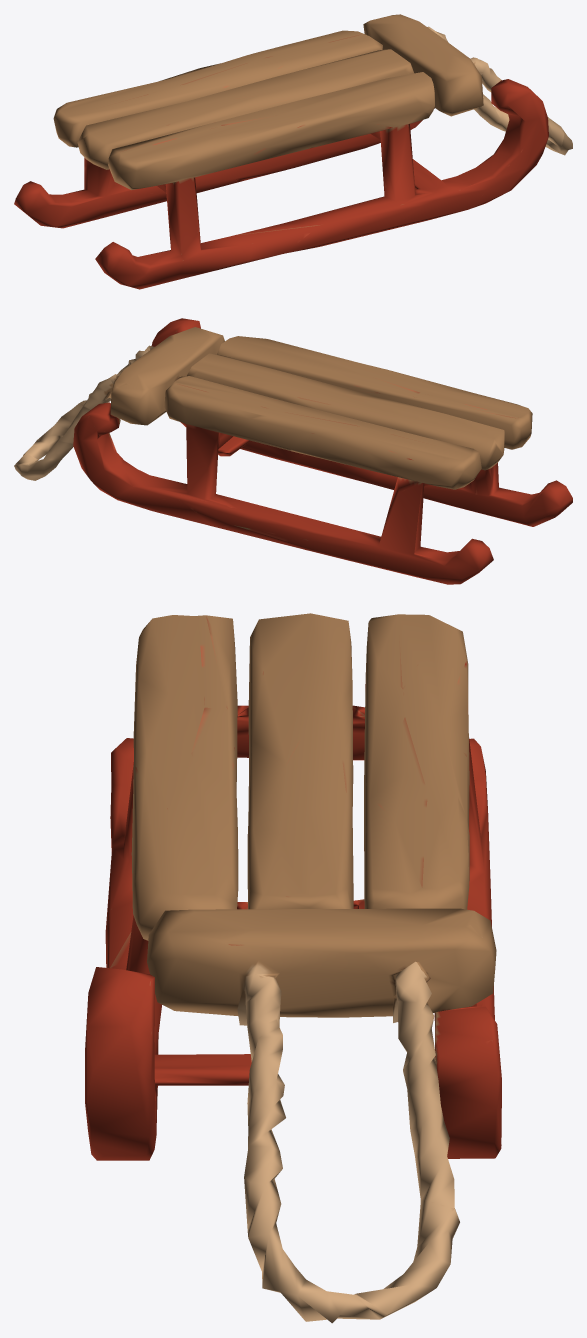
File: toy-sled.glb
The picture shows the model from 3 angles, top to bottom: view 1: azimuth 30°, elevation 25°; view 2: azimuth 150°, elevation 25°; view 3: azimuth 270°, elevation 25°; orthographic projection. The views are drawn at different scales.
Parts seen in each view (by area): view 1: tripo_node_a2bdc0f5-61c9-42d8-bff1-c8232b718bc2; view 2: tripo_node_a2bdc0f5-61c9-42d8-bff1-c8232b718bc2; view 3: tripo_node_a2bdc0f5-61c9-42d8-bff1-c8232b718bc2.
Part boxes in pixels (x1=…): tripo_node_a2bdc0f5-61c9-42d8-bff1-c8232b718bc2: x1=14, y1=14, x2=572, y2=289; tripo_node_a2bdc0f5-61c9-42d8-bff1-c8232b718bc2: x1=14, y1=318, x2=572, y2=584; tripo_node_a2bdc0f5-61c9-42d8-bff1-c8232b718bc2: x1=85, y1=613, x2=501, y2=1323.
Bounding box in the file's own units: 1 × 0.2655 × 0.3641.
1 material, 1 textured.
